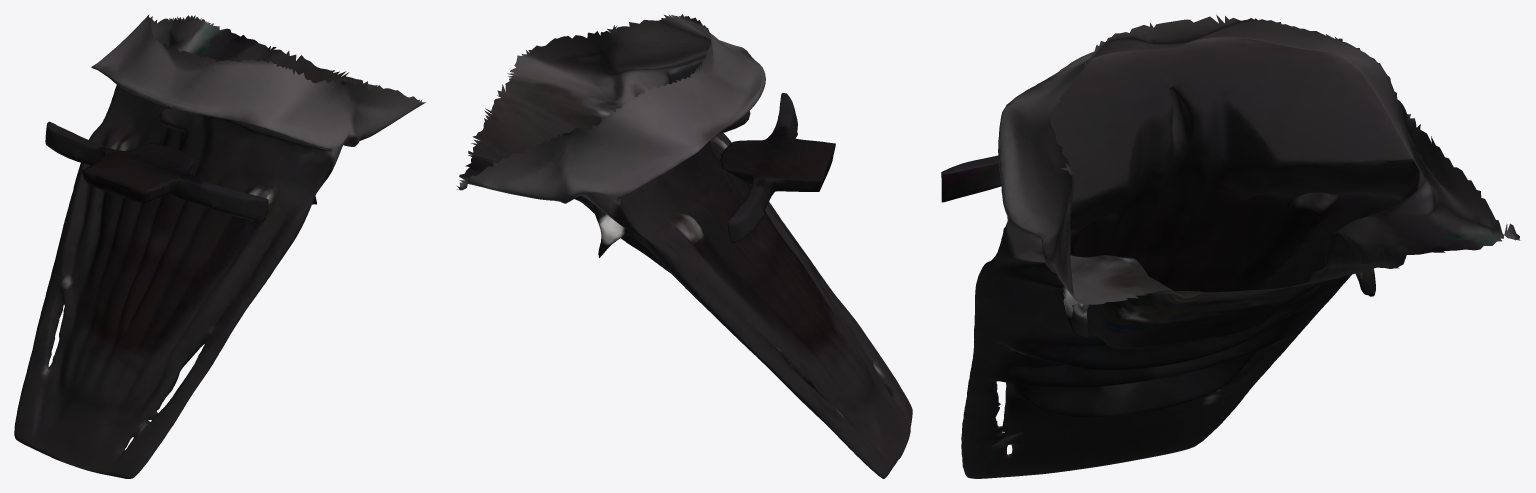
The model's file is blt150_08.obj.
The picture shows the model from 3 angles, left to right: view 1: azimuth 30°, elevation 25°; view 2: azimuth 150°, elevation 25°; view 3: azimuth 270°, elevation 25°; orthographic projection. The views are drawn at different scales.
Visible parts, largest first — view 1: blt150_08; view 2: blt150_08; view 3: blt150_08.
Part boxes in pixels (bbox=[...]): blt150_08: bbox=[14, 14, 425, 478]; blt150_08: bbox=[456, 14, 912, 478]; blt150_08: bbox=[941, 14, 1520, 478].
Bounding box in the file's own units: 1.93 × 1.75 × 1.63.
